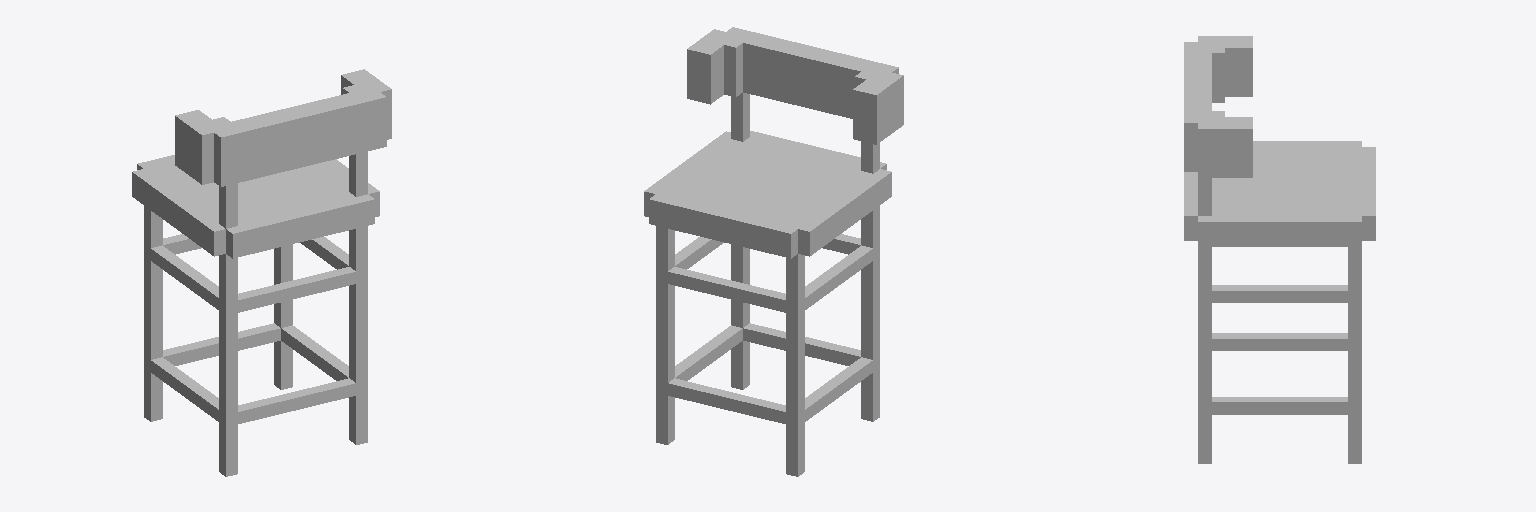
Rendered from BarChair 1.obj.
The picture shows the model from 3 angles: view 1: azimuth 30°, elevation 25°; view 2: azimuth 150°, elevation 25°; view 3: azimuth 270°, elevation 25°; orthographic projection.
Parts seen in each view (by area): view 1: object 1; view 2: object 1; view 3: object 1.
Part boxes in pixels (x1,y1,x2,y2): object 1: (132, 69, 391, 476); object 1: (644, 27, 903, 476); object 1: (1184, 36, 1375, 463).
Bounding box in the file's own units: 3.2 × 5.6 × 2.8.